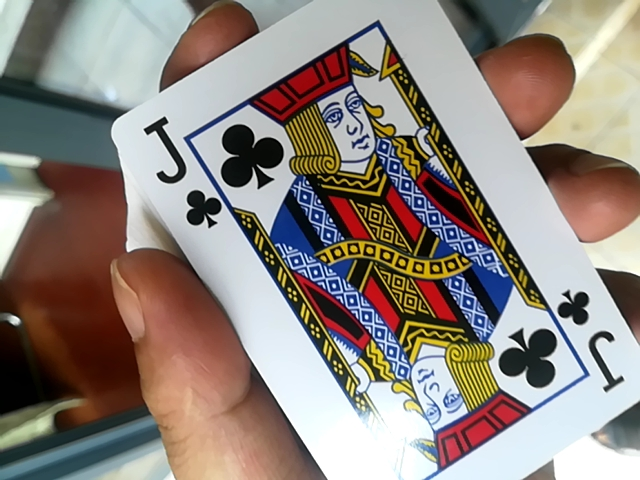mh j: (104, 3, 626, 479)
